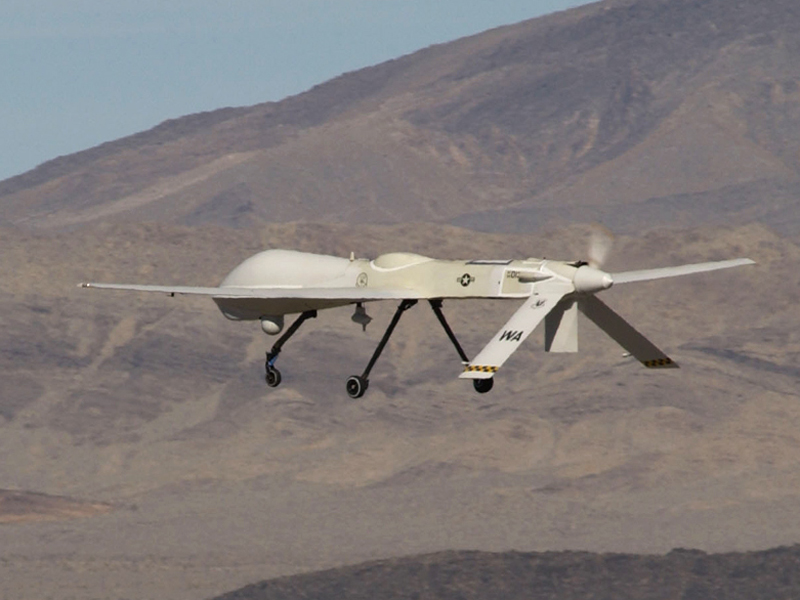military drone: (76, 229, 756, 398)
